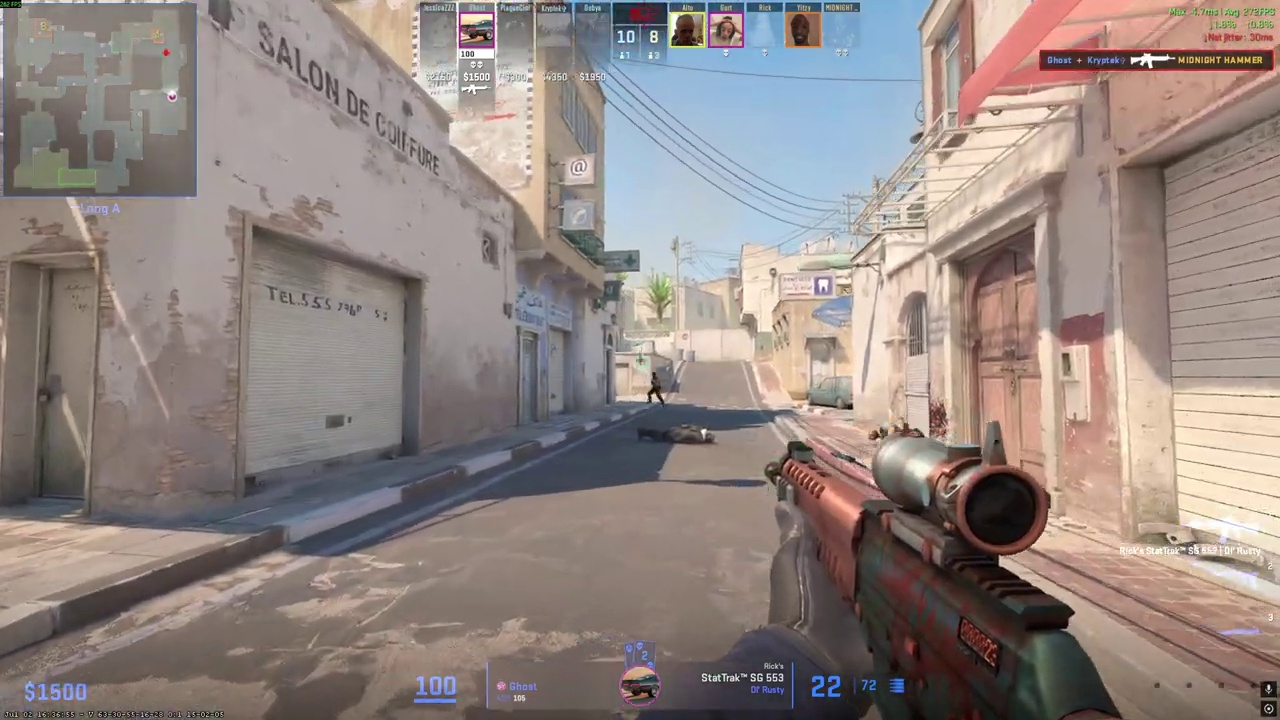Terrorist: (646, 372, 664, 404)
